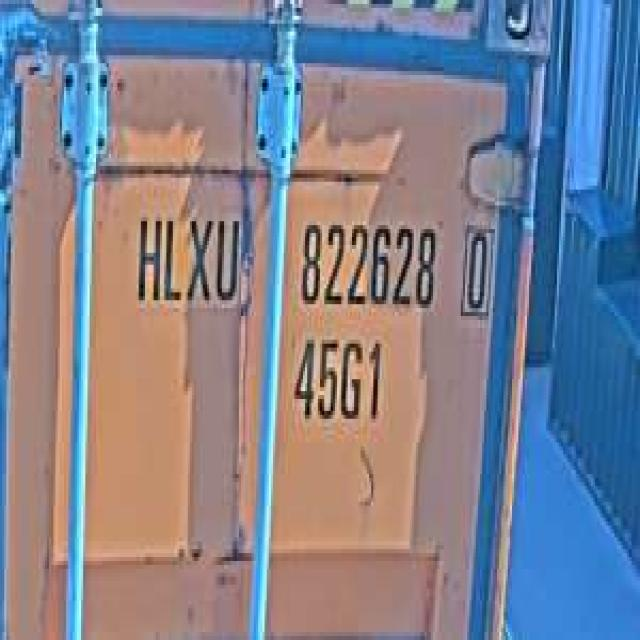dv: (454, 217, 497, 324)
owner: (130, 198, 243, 312)
serial: (294, 205, 442, 320)
size: (288, 328, 384, 427)
